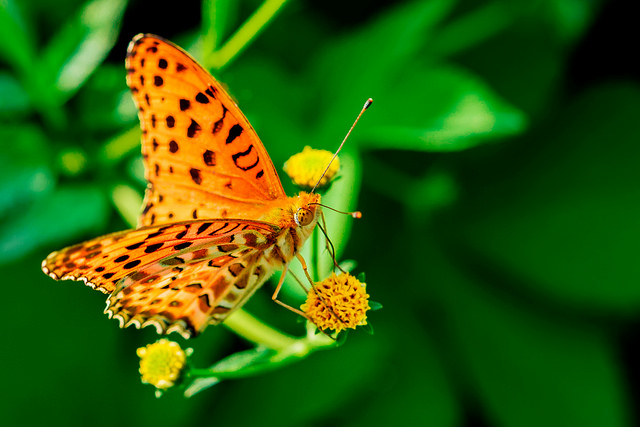Argyreus hyperbius: (37, 29, 384, 335)
butterfly: (39, 31, 386, 337)
